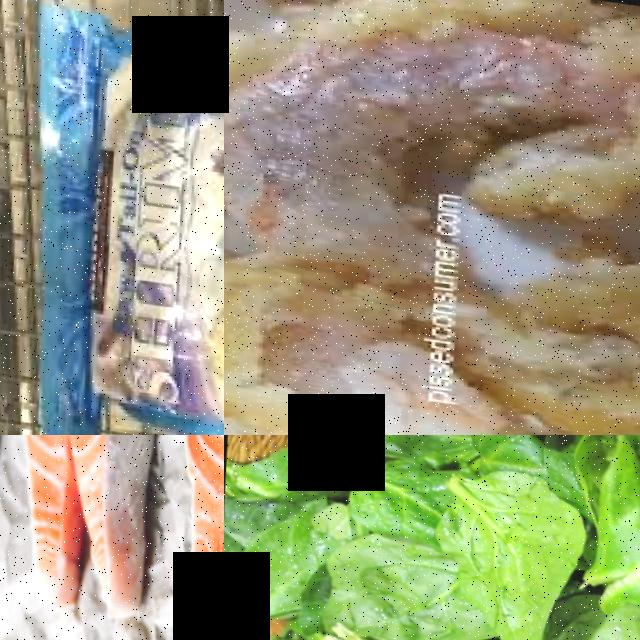salmon: (0, 435, 188, 614), (143, 435, 224, 640)
spinach: (443, 461, 589, 640), (345, 451, 450, 539)
